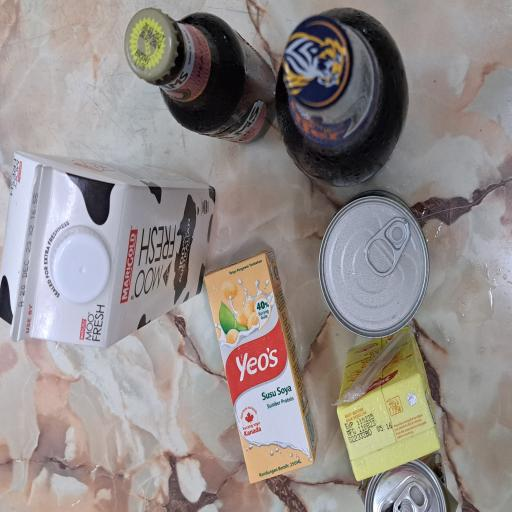can: (0, 486, 41, 512)
drink carton: (124, 0, 270, 285), (22, 269, 197, 423), (131, 424, 241, 512), (24, 448, 139, 512)
glass bottle: (276, 164, 378, 364), (242, 367, 380, 512)
plastic bottle cap: (157, 66, 215, 150)
pop tab: (175, 483, 219, 512)
